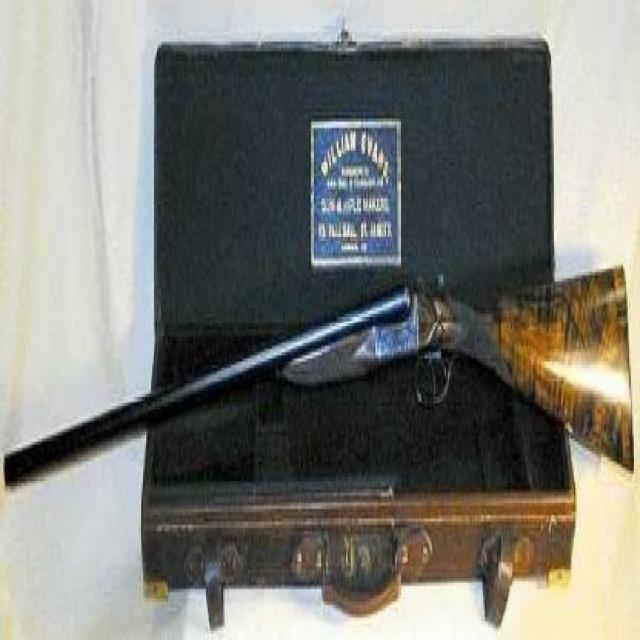weapon: (9, 270, 636, 546)
